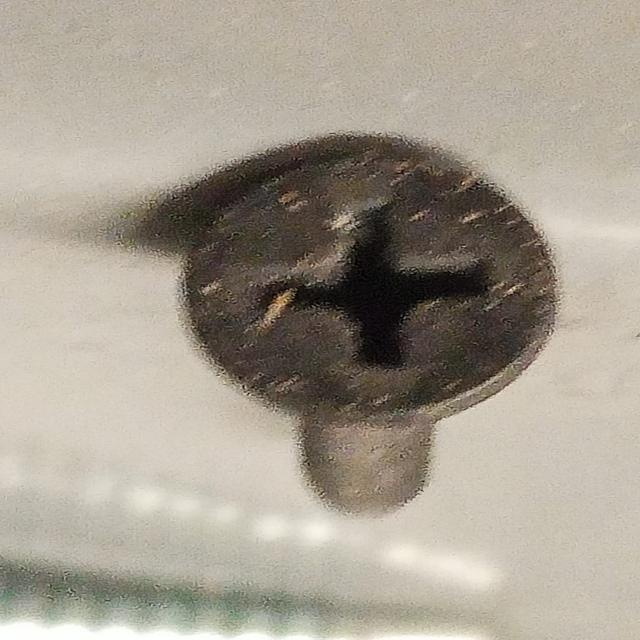phillips: (178, 147, 558, 428)
